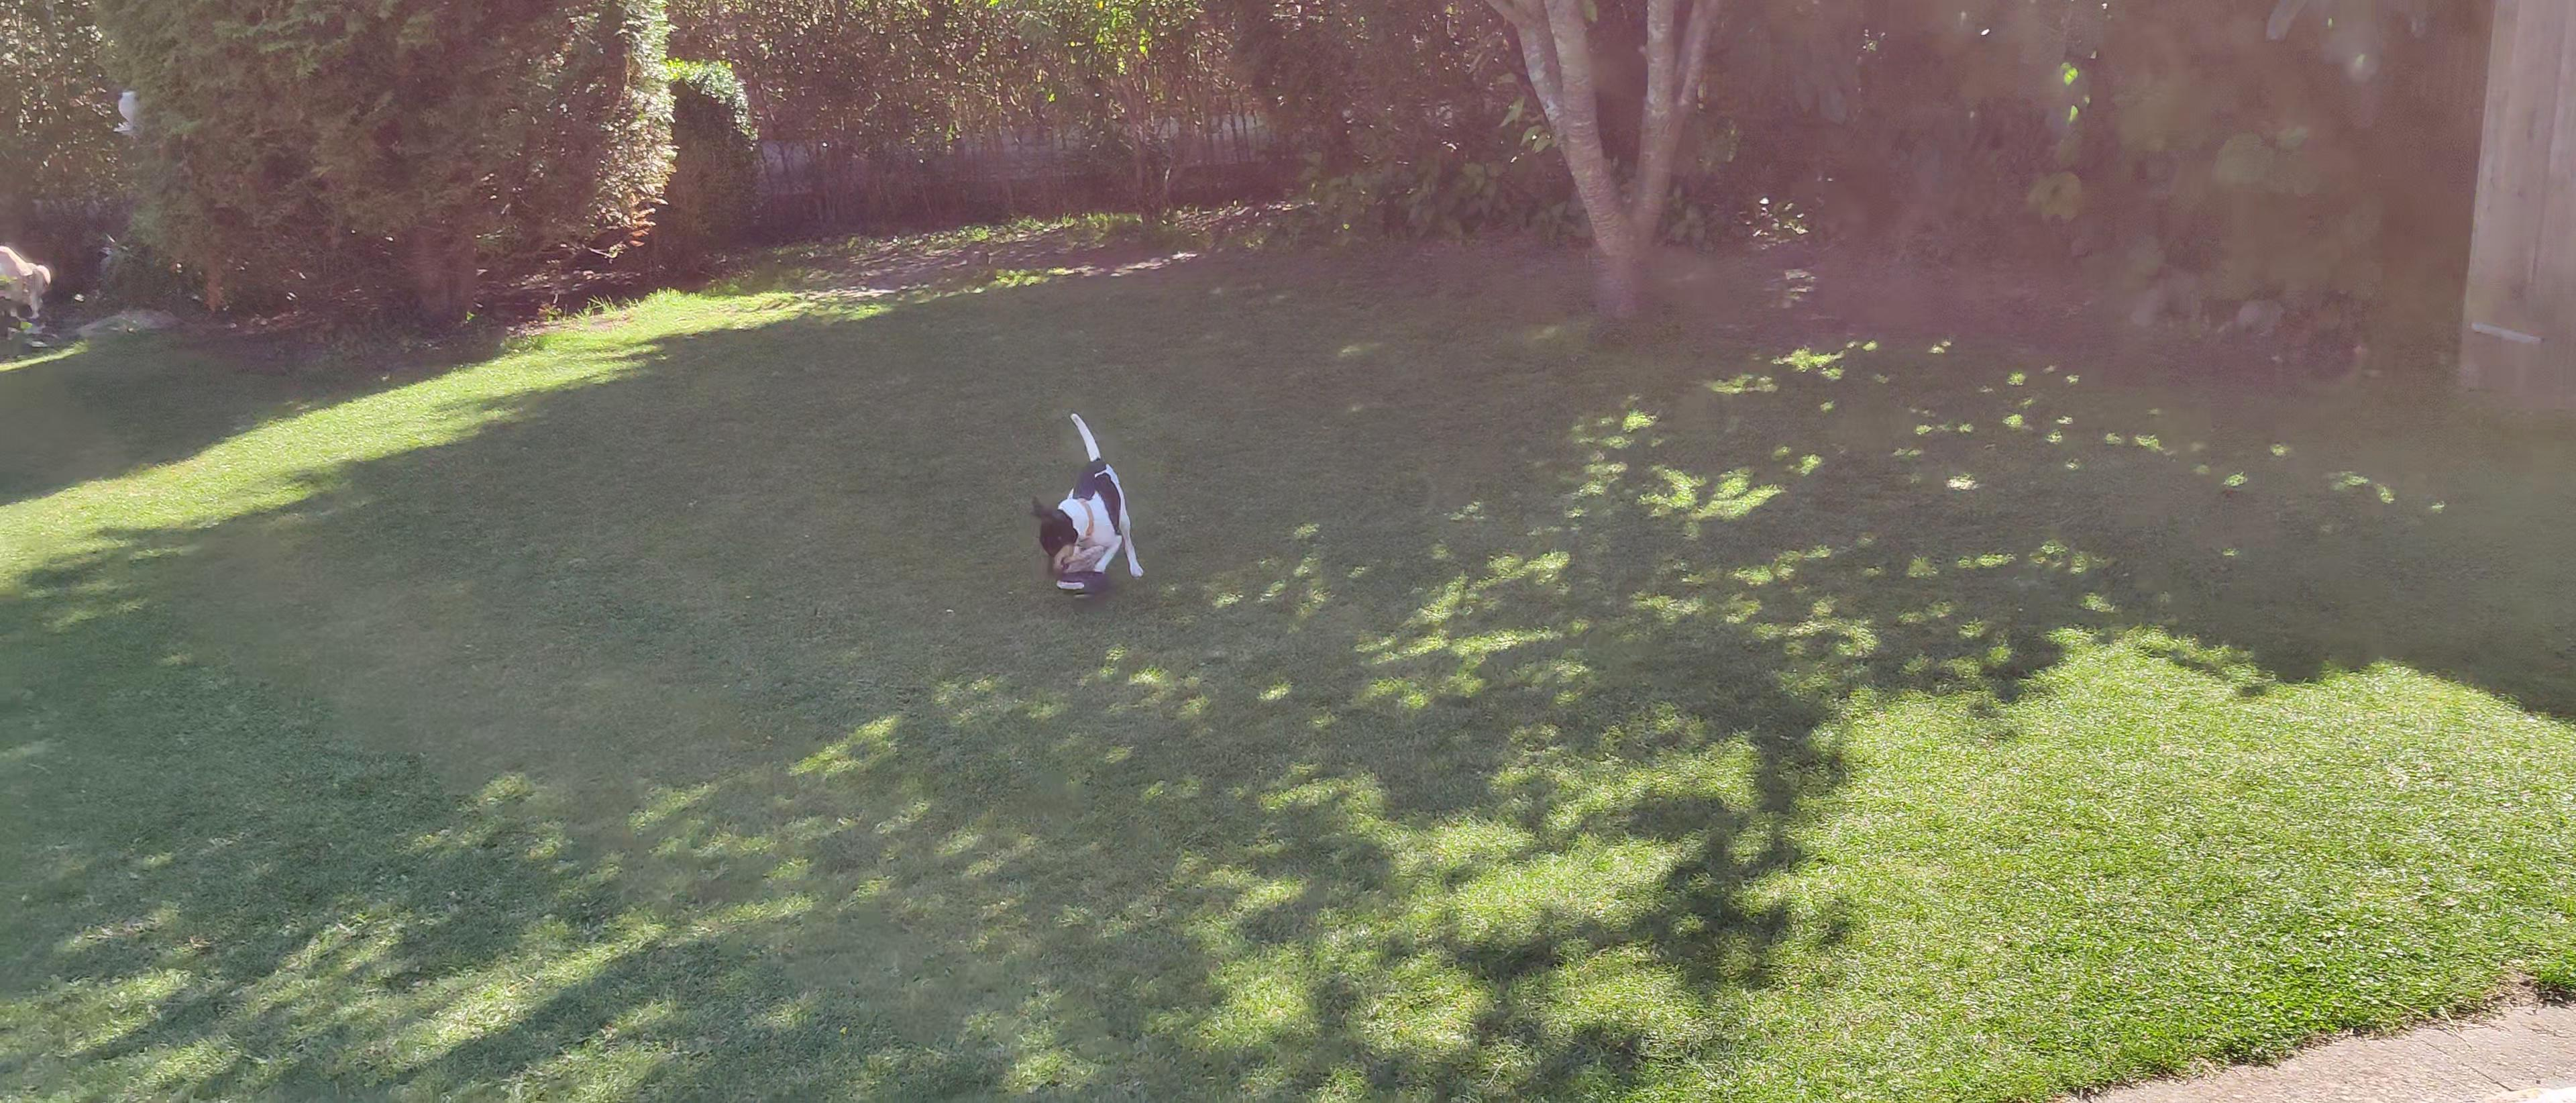Dog: (1027, 409, 1145, 587)
